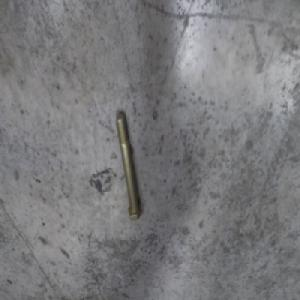Bolt: (115, 111, 141, 220)
